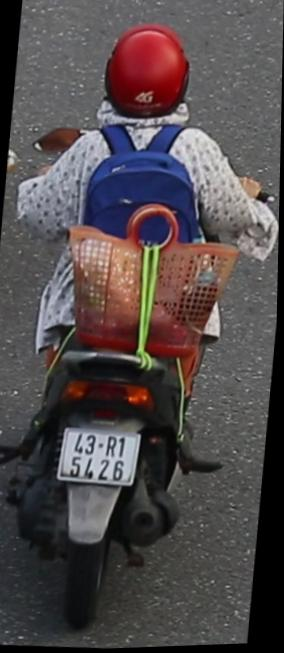LP: (58, 423, 146, 494)
helmet: (91, 18, 206, 159)
